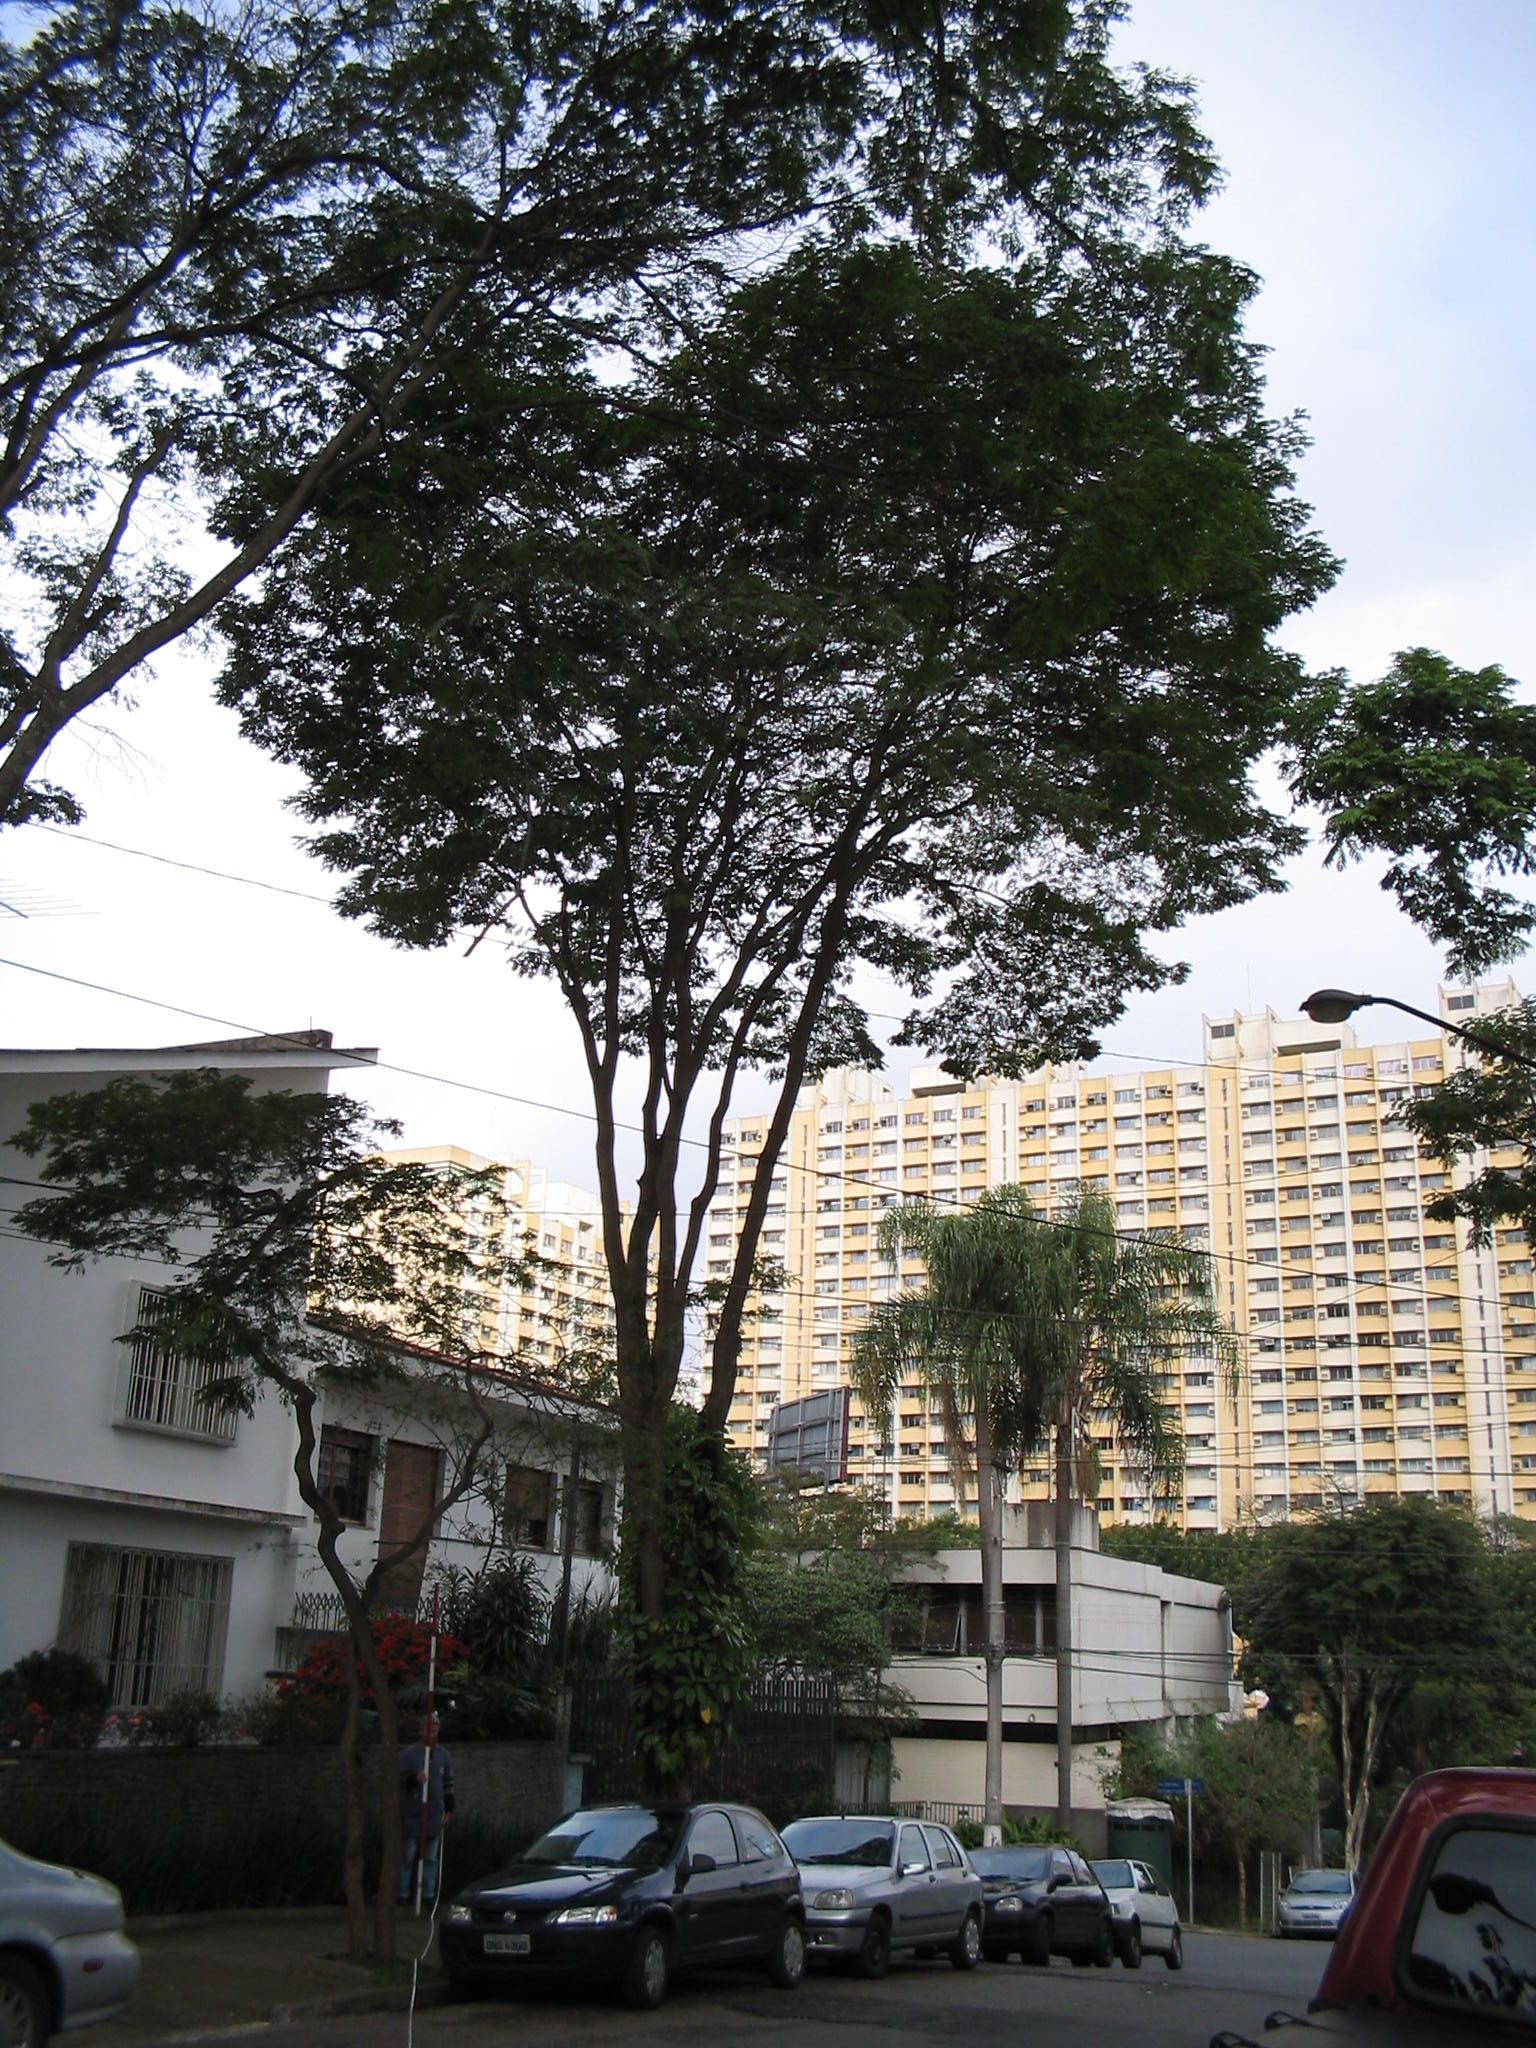crown: (236, 244, 1329, 1093), (19, 1082, 536, 1464)
stem: (600, 1519, 766, 1948), (308, 1651, 408, 1951)
stick: (399, 1577, 457, 1919)
tree: (223, 227, 1342, 1948), (11, 1076, 532, 1959)
